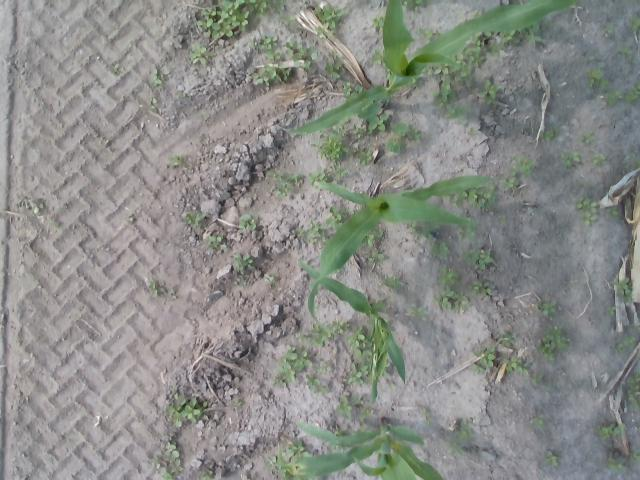Maize: (275, 0, 575, 134), (308, 177, 491, 322), (296, 259, 407, 404), (294, 415, 444, 480)
Weeds: (198, 0, 286, 39), (272, 344, 314, 388), (266, 440, 310, 479), (168, 389, 208, 427), (151, 440, 183, 479), (456, 47, 486, 81), (309, 320, 348, 346), (312, 135, 348, 162), (268, 170, 304, 197), (540, 326, 568, 360), (286, 40, 318, 68), (434, 284, 468, 310), (468, 184, 496, 210), (433, 78, 456, 108), (188, 42, 216, 65), (314, 7, 344, 28), (251, 66, 281, 86), (577, 198, 598, 226), (473, 347, 495, 373), (338, 123, 371, 140), (306, 220, 330, 243), (250, 34, 278, 52), (446, 103, 470, 124), (512, 156, 537, 176), (627, 370, 640, 408), (504, 356, 528, 376), (16, 198, 45, 214), (232, 253, 254, 274), (349, 363, 369, 385), (479, 79, 497, 103), (334, 395, 352, 418), (610, 278, 632, 296), (368, 114, 388, 132), (446, 436, 466, 454), (458, 419, 475, 440), (184, 211, 207, 226), (616, 334, 635, 352), (326, 206, 343, 226), (440, 267, 460, 284), (430, 241, 449, 258), (236, 214, 256, 230), (402, 0, 428, 12), (347, 328, 364, 346), (342, 82, 362, 97), (625, 82, 640, 102), (560, 151, 580, 166), (479, 250, 493, 271), (426, 63, 450, 75), (500, 330, 516, 348), (452, 191, 468, 209), (386, 138, 406, 152), (352, 347, 372, 361), (332, 164, 349, 180), (366, 231, 383, 247), (325, 62, 341, 78), (544, 450, 560, 466), (422, 222, 438, 238), (587, 70, 601, 88), (308, 172, 326, 186), (538, 300, 556, 314), (356, 150, 372, 165), (305, 374, 320, 390), (464, 249, 479, 265), (471, 33, 492, 44), (315, 26, 334, 38), (408, 125, 423, 140), (606, 90, 620, 106), (208, 236, 226, 248), (530, 24, 542, 42), (468, 280, 482, 295), (502, 176, 517, 190), (151, 67, 162, 86), (392, 123, 408, 136), (406, 306, 426, 316), (629, 14, 640, 32), (384, 276, 402, 287), (370, 14, 384, 28), (460, 228, 475, 241), (316, 361, 332, 373), (610, 422, 626, 434), (605, 461, 626, 470), (408, 223, 421, 237), (170, 154, 185, 166), (540, 130, 555, 142), (372, 301, 388, 312), (368, 250, 384, 261), (148, 280, 158, 296), (419, 28, 433, 39), (372, 50, 382, 65), (616, 47, 632, 56), (581, 133, 597, 142), (489, 44, 502, 55), (200, 469, 213, 480), (164, 290, 177, 301), (360, 406, 371, 418), (504, 30, 516, 41), (148, 97, 158, 110), (268, 50, 280, 60), (282, 68, 292, 80), (482, 282, 492, 294), (424, 409, 431, 425), (602, 27, 613, 37), (352, 395, 363, 405), (363, 336, 372, 348), (314, 385, 326, 394), (534, 414, 544, 424), (599, 426, 609, 436), (334, 427, 345, 436), (296, 332, 305, 343), (607, 207, 618, 216), (328, 51, 342, 58), (174, 90, 186, 98), (599, 80, 608, 90), (594, 155, 604, 164), (519, 31, 528, 40), (112, 64, 121, 73), (233, 398, 243, 406), (264, 274, 274, 282), (532, 374, 542, 382), (52, 220, 61, 228), (607, 306, 616, 314), (468, 128, 476, 136), (584, 56, 596, 61), (288, 15, 294, 25), (128, 214, 134, 222), (296, 230, 304, 236), (547, 383, 553, 390), (499, 213, 505, 220), (160, 282, 164, 290), (636, 161, 640, 169), (632, 59, 638, 64), (580, 183, 585, 187)
